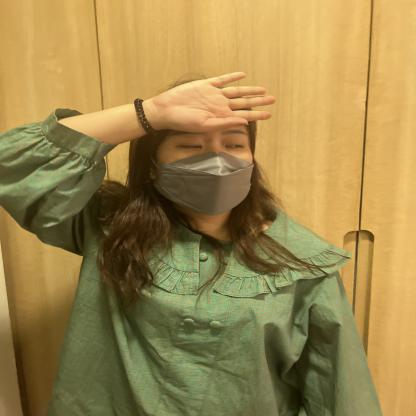Sick: (31, 37, 347, 184)
